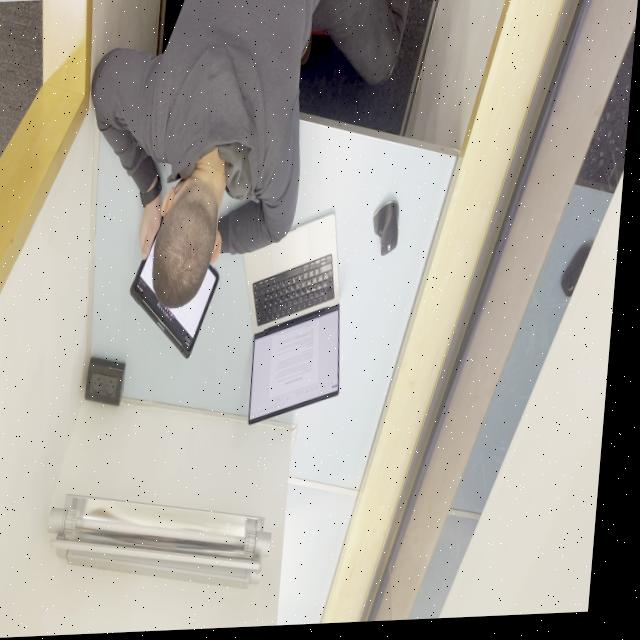bag: (129, 213, 229, 366)
ipad: (77, 0, 411, 314)
laptop: (236, 215, 358, 430)
mouse: (374, 203, 405, 261)
